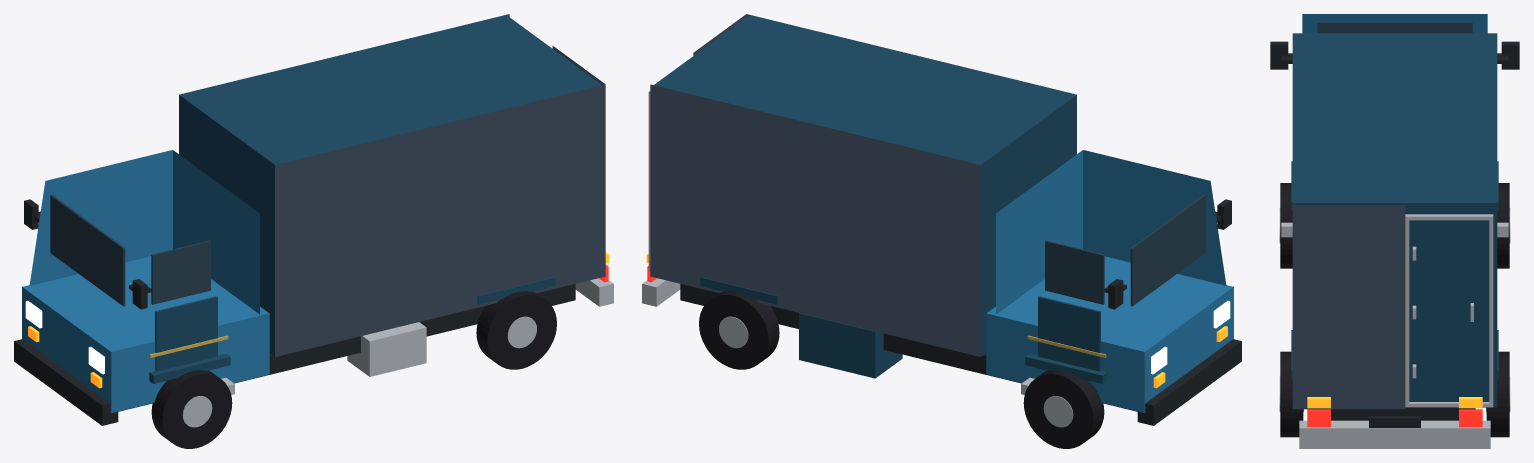
File: Xinyu_2.1t_LED_Mobile_Ad_Truck_V2.glb
3 views of the same model, side by side, from view 1: azimuth 30°, elevation 25°; view 2: azimuth 150°, elevation 25°; view 3: azimuth 270°, elevation 25° (orthographic). The views are drawn at different scales.
Visible parts, largest first — view 1: LED_LEFT_MAIN, CARGO_BODY, CAB_UPPER_SHELL, CAB_LOWER_BODY, CAB_FRONT_WINDSHIELD, WHEEL_REAR_LEFT, WHEEL_FRONT_LEFT, CAB_LEFT_DOOR_PANEL, CHASSIS_MAIN, CAB_LEFT_WINDOW, FUEL_BOX, FRONT_BUMPER (+5 smaller); view 2: LED_RIGHT_MAIN, CARGO_BODY, CAB_UPPER_SHELL, CAB_LOWER_BODY, CAB_FRONT_WINDSHIELD, GENERATOR_BOX, WHEEL_REAR_RIGHT, WHEEL_FRONT_RIGHT, CAB_RIGHT_DOOR_PANEL, CAB_RIGHT_WINDOW, FRONT_BUMPER, CHASSIS_MAIN (+5 smaller); view 3: CARGO_BODY, LED_LEFT_REAR, REAR_RIGHT_ACCESS_DOOR, REAR_BUMPER, CAB_UPPER_SHELL, CAB_FRONT_WINDSHIELD, CHASSIS_MAIN, WHEEL_REAR_RIGHT, WHEEL_REAR_LEFT, REAR_DOOR_FRAME_LEFT, WHEEL_FRONT_LEFT, WHEEL_FRONT_RIGHT (+10 smaller).
Boxes of the visible parts, box(x1,y1,x2,y2) form: LED_LEFT_MAIN: box(275, 84, 605, 356); CARGO_BODY: box(179, 15, 601, 356); CAB_UPPER_SHELL: box(29, 150, 259, 314); CAB_LOWER_BODY: box(22, 256, 269, 412); CAB_FRONT_WINDSHIELD: box(50, 194, 125, 306); WHEEL_REAR_LEFT: box(476, 291, 556, 369); WHEEL_FRONT_LEFT: box(151, 370, 232, 448); CAB_LEFT_DOOR_PANEL: box(155, 296, 217, 371); CHASSIS_MAIN: box(118, 284, 575, 411); CAB_LEFT_WINDOW: box(151, 240, 210, 304); FUEL_BOX: box(347, 322, 426, 376); FRONT_BUMPER: box(14, 339, 118, 425); LED_RIGHT_MAIN: box(650, 84, 980, 356); CARGO_BODY: box(654, 15, 1076, 356); CAB_UPPER_SHELL: box(996, 150, 1226, 314); CAB_LOWER_BODY: box(986, 256, 1233, 412); CAB_FRONT_WINDSHIELD: box(1130, 194, 1205, 306); GENERATOR_BOX: box(799, 313, 902, 378); WHEEL_REAR_RIGHT: box(699, 291, 779, 369); WHEEL_FRONT_RIGHT: box(1023, 370, 1104, 448); CAB_RIGHT_DOOR_PANEL: box(1038, 296, 1100, 371); CAB_RIGHT_WINDOW: box(1045, 240, 1104, 304); FRONT_BUMPER: box(1137, 339, 1241, 425); CHASSIS_MAIN: box(680, 284, 1137, 411); CARGO_BODY: box(1292, 33, 1497, 407); LED_LEFT_REAR: box(1292, 205, 1405, 409); REAR_RIGHT_ACCESS_DOOR: box(1409, 220, 1489, 401); REAR_BUMPER: box(1299, 420, 1490, 448); CAB_UPPER_SHELL: box(1302, 14, 1487, 33); CAB_FRONT_WINDSHIELD: box(1317, 22, 1472, 33); CHASSIS_MAIN: box(1331, 407, 1475, 420); WHEEL_REAR_RIGHT: box(1486, 351, 1509, 437); WHEEL_REAR_LEFT: box(1280, 351, 1303, 437); REAR_DOOR_FRAME_LEFT: box(1405, 214, 1409, 407); WHEEL_FRONT_LEFT: box(1280, 183, 1292, 268); WHEEL_FRONT_RIGHT: box(1497, 183, 1509, 268).
Size of what is drawn, in the model's own units: 6.29 by 3.04 by 2.5.
